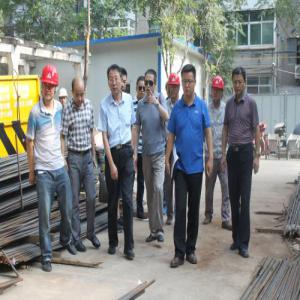none: (182, 65, 198, 97), (108, 63, 123, 96), (73, 77, 87, 105), (233, 68, 247, 96), (144, 70, 157, 96), (136, 77, 146, 98), (121, 68, 129, 91)
red: (41, 62, 60, 103), (169, 72, 182, 101), (212, 77, 225, 103)
white: (59, 87, 68, 107)
